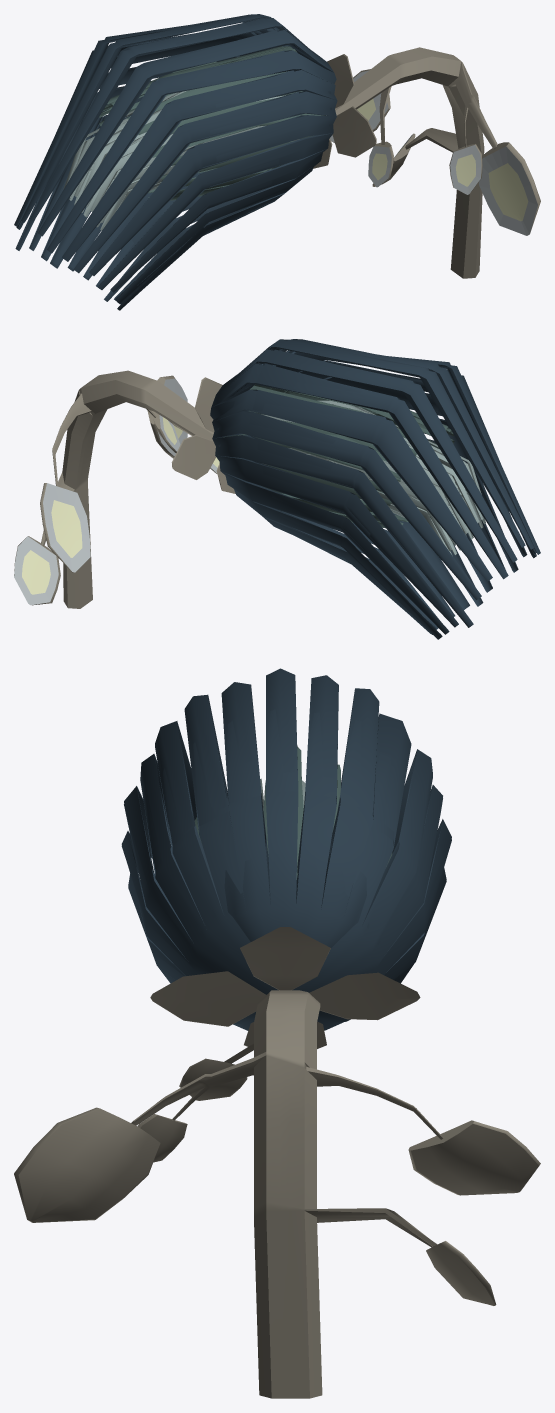
File: Planta Morta_4H.fbx
3 renders of one model, top to bottom at view 1: azimuth 30°, elevation 25°; view 2: azimuth 150°, elevation 25°; view 3: azimuth 270°, elevation 25°, orthographic. The views are drawn at different scales.
Visible parts, largest first — view 1: pCylinder6, pCube4, pCube5, pCylinder5, pCylinder1, pCube6, pCube2, pCube8, pCube7; view 2: pCylinder6, pCube4, pCube8, pCylinder5, pCylinder1, pCube7, pCube5, pCube6; view 3: pCylinder6, pCube4, pCube5, pCube8, pCube7, pCube2, pCube6, pCylinder5.
Boxes of the visible parts, <box> form: pCylinder6: <box>14,14,337,310</box>; pCube4: <box>313,47,497,278</box>; pCube5: <box>479,142,540,235</box>; pCylinder5: <box>99,46,325,200</box>; pCylinder1: <box>63,90,326,230</box>; pCube6: <box>449,144,482,194</box>; pCube2: <box>368,141,393,187</box>; pCube8: <box>330,69,390,142</box>; pCube7: <box>372,133,415,186</box>; pCylinder6: <box>210,339,540,639</box>; pCube4: <box>40,370,235,608</box>; pCube8: <box>40,483,90,572</box>; pCylinder5: <box>223,384,454,528</box>; pCylinder1: <box>261,400,485,555</box>; pCube7: <box>14,536,60,605</box>; pCube5: <box>147,375,187,458</box>; pCube6: <box>153,412,180,452</box>; pCylinder6: <box>121,668,451,1030</box>; pCube4: <box>131,927,443,1398</box>; pCube5: <box>14,1107,160,1222</box>; pCube8: <box>408,1120,540,1195</box>; pCube7: <box>426,1241,496,1305</box>; pCube2: <box>179,1058,247,1100</box>; pCube6: <box>137,1114,187,1162</box>; pCylinder5: <box>194,746,392,879</box>.
Bounding box in the file's own units: 683 × 451 × 453.
